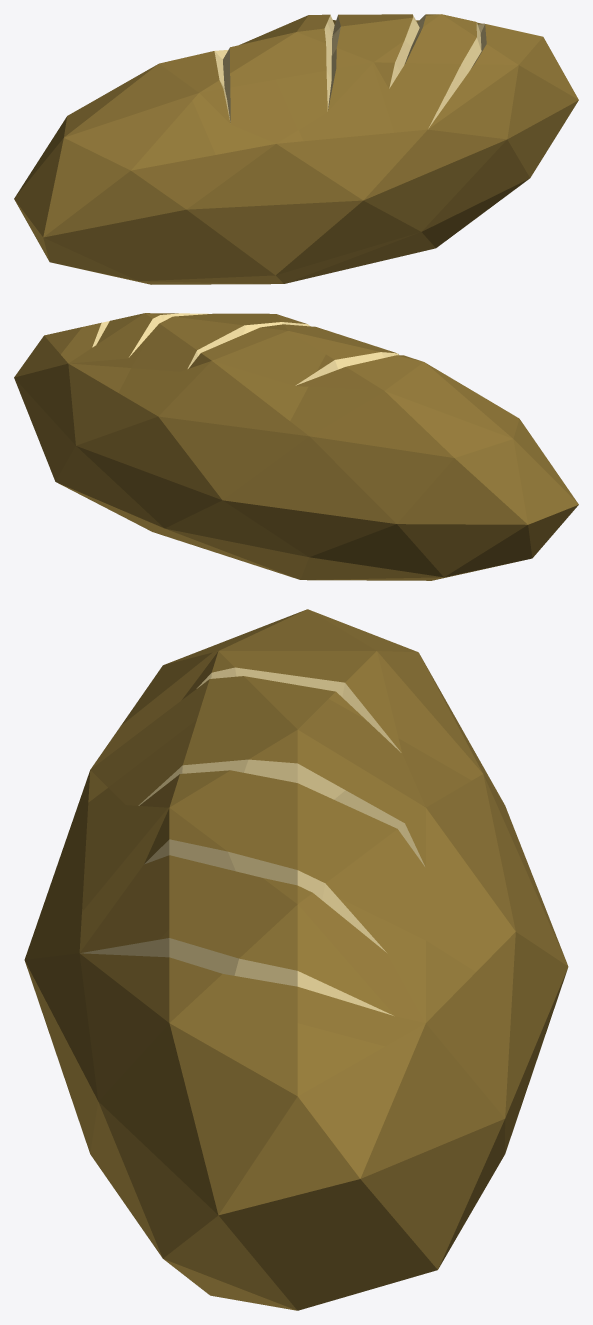
Rendered from bread_s.fbx.
3 views of the same model, one above another, from view 1: azimuth 30°, elevation 25°; view 2: azimuth 150°, elevation 25°; view 3: azimuth 270°, elevation 25° (orthographic). The views are drawn at different scales.
Visible parts, largest first — view 1: Icosphere.005, Icosphere.002, Icosphere, Icosphere.004, Icosphere.003, Icosphere.006, Icosphere.001; view 2: Icosphere.005, Icosphere.002, Icosphere, Icosphere.004, Icosphere.003, Icosphere.006, Icosphere.001; view 3: Icosphere.006, Icosphere.001, Icosphere.004, Icosphere.005, Icosphere.002, Icosphere.
Part boxes in pixels (box(x1,y1,x2,y2)): Icosphere.005: box(240, 15, 403, 283); Icosphere.002: box(150, 44, 314, 284); Icosphere: box(65, 68, 224, 284); Icosphere.004: box(308, 14, 477, 264); Icosphere.003: box(14, 118, 132, 277); Icosphere.006: box(416, 14, 540, 239); Icosphere.001: box(505, 28, 578, 167); Icosphere.005: box(182, 314, 358, 579); Icosphere.002: box(270, 341, 432, 580); Icosphere: box(357, 367, 521, 580); Icosphere.004: box(107, 313, 276, 553); Icosphere.003: box(449, 420, 578, 573); Icosphere.006: box(47, 313, 168, 525); Icosphere.001: box(14, 327, 81, 467); Icosphere.006: box(83, 883, 518, 1307); Icosphere.001: box(154, 1023, 438, 1310); Icosphere.004: box(45, 782, 550, 1296); Icosphere.005: box(24, 698, 568, 1076); Icosphere.002: box(65, 648, 550, 921); Icosphere: box(121, 619, 518, 839).
Size of the model in its own units: 317 by 133 by 141.
